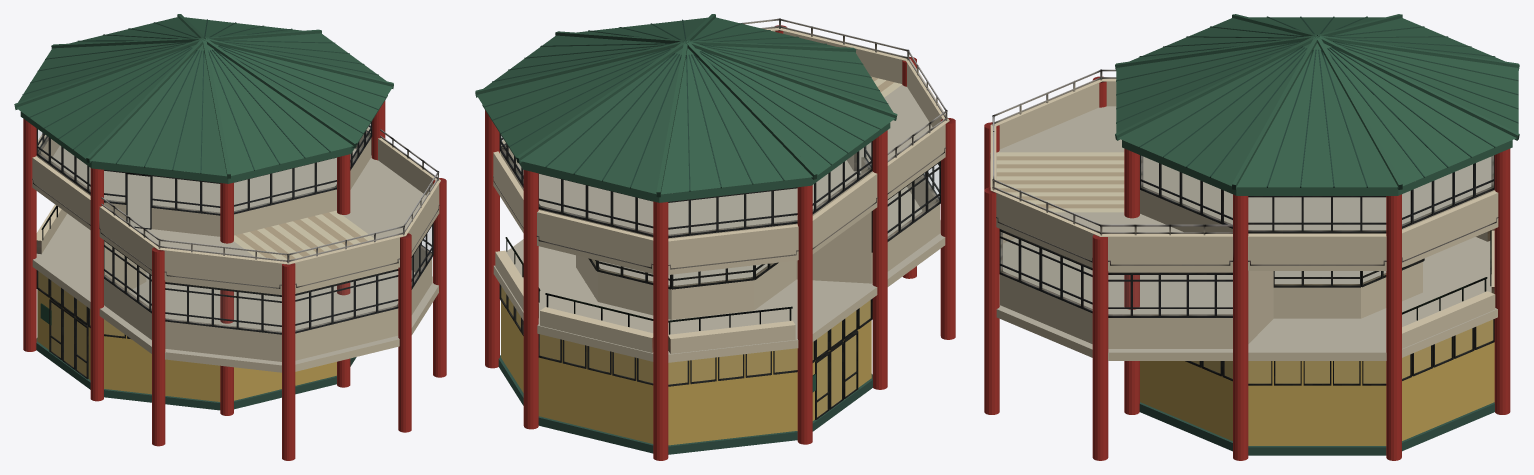
File: SM_Library.glb
The picture shows the model from 3 angles, left to right: view 1: azimuth 30°, elevation 25°; view 2: azimuth 150°, elevation 25°; view 3: azimuth 270°, elevation 25°; orthographic projection. The views are drawn at different scales.
Visible parts, largest first — view 1: SM_Library_LM, SM_Library_VC, SM_Library_NB; view 2: SM_Library_LM, SM_Library_VC, SM_Library_NB; view 3: SM_Library_LM, SM_Library_VC, SM_Library_NB.
Boxes of the visible parts, x1,y1,x2,y2 form: SM_Library_LM: (14, 14, 446, 460); SM_Library_VC: (14, 19, 446, 379); SM_Library_NB: (38, 124, 431, 375); SM_Library_LM: (475, 14, 955, 460); SM_Library_VC: (484, 18, 955, 419); SM_Library_NB: (501, 136, 938, 415); SM_Library_LM: (984, 14, 1519, 460); SM_Library_VC: (984, 16, 1519, 385); SM_Library_NB: (1001, 156, 1493, 383).
Bounding box in the file's own units: 13.24 × 12.4 × 17.51.
